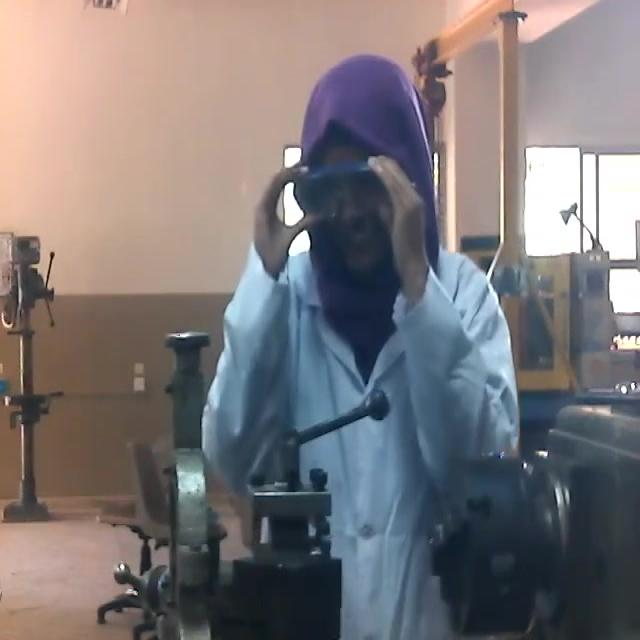googles: (294, 157, 395, 225)
labcoat: (202, 228, 520, 640)
